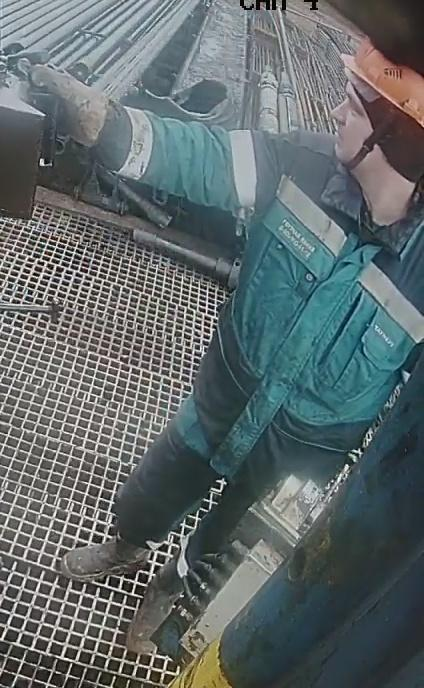gloves: (34, 62, 135, 158)
helmet: (338, 28, 423, 128)
vest: (184, 127, 423, 482)
